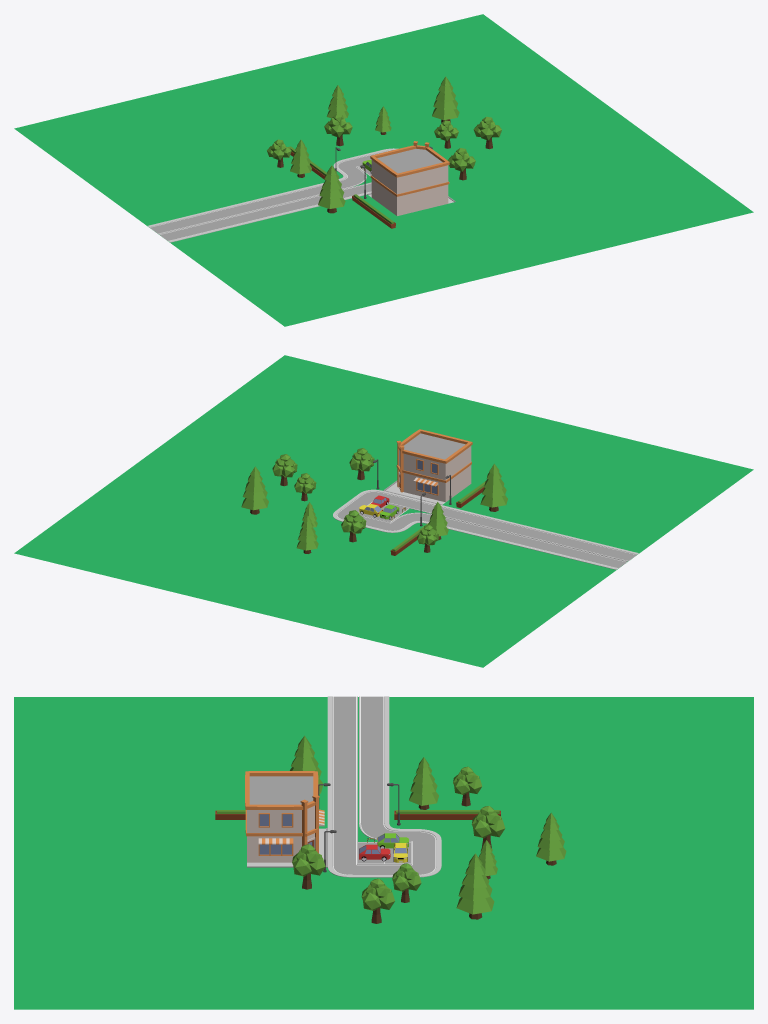
Rendered from parking_jam_5.glb.
3 renders of one model, top to bottom at view 1: azimuth 30°, elevation 25°; view 2: azimuth 150°, elevation 25°; view 3: azimuth 270°, elevation 25°, orthographic. The views are drawn at different scales.
Parts seen in each view (by area): view 1: grass, trees-plant_mat (×2), road-asphalt_mat, house-facade01_mat, road-board_mat, house-facade02_mat, house-asphalt_mat, road-lines_mat; view 2: grass, road-asphalt_mat, trees-plant_mat (×2), house-facade01_mat, road-board_mat, house-facade02_mat, house-asphalt_mat, road-lines_mat; view 3: grass, road-asphalt_mat, trees-plant_mat (×2), road-board_mat, house-facade02_mat, house-facade01_mat, house-asphalt_mat, road-lines_mat, trees-bark_mat, plants-vase_mat, house-windows.
Part boxes in pixels (x1,y1,x2,y2): grass: (14,14,753,326); trees-plant_mat (×2): (267,76,501,208); road-asphalt_mat: (149,150,391,240); house-facade01_mat: (371,160,449,215); road-board_mat: (148,148,398,242); house-facade02_mat: (370,141,449,196); house-asphalt_mat: (377,148,442,173); road-lines_mat: (150,150,390,240); grass: (14,355,753,667); road-asphalt_mat: (336,491,636,568); trees-plant_mat (×2): (241,448,507,550); house-facade01_mat: (398,446,471,502); road-board_mat: (333,489,638,569); house-facade02_mat: (396,429,472,495); house-asphalt_mat: (404,433,465,459); road-lines_mat: (336,491,636,568); grass: (14,697,753,1009); road-asphalt_mat: (332,696,436,874); trees-plant_mat (×2): (290,735,566,914); road-board_mat: (327,696,441,877); house-facade02_mat: (245,771,324,855); house-facade01_mat: (247,805,324,862); house-asphalt_mat: (249,776,313,804); road-lines_mat: (333,696,436,874); trees-bark_mat: (302,792,556,923); plants-vase_mat: (215,810,500,819); house-windows: (259,814,312,854).
Bounding box in the file's own units: 1800 × 180 × 1800.
